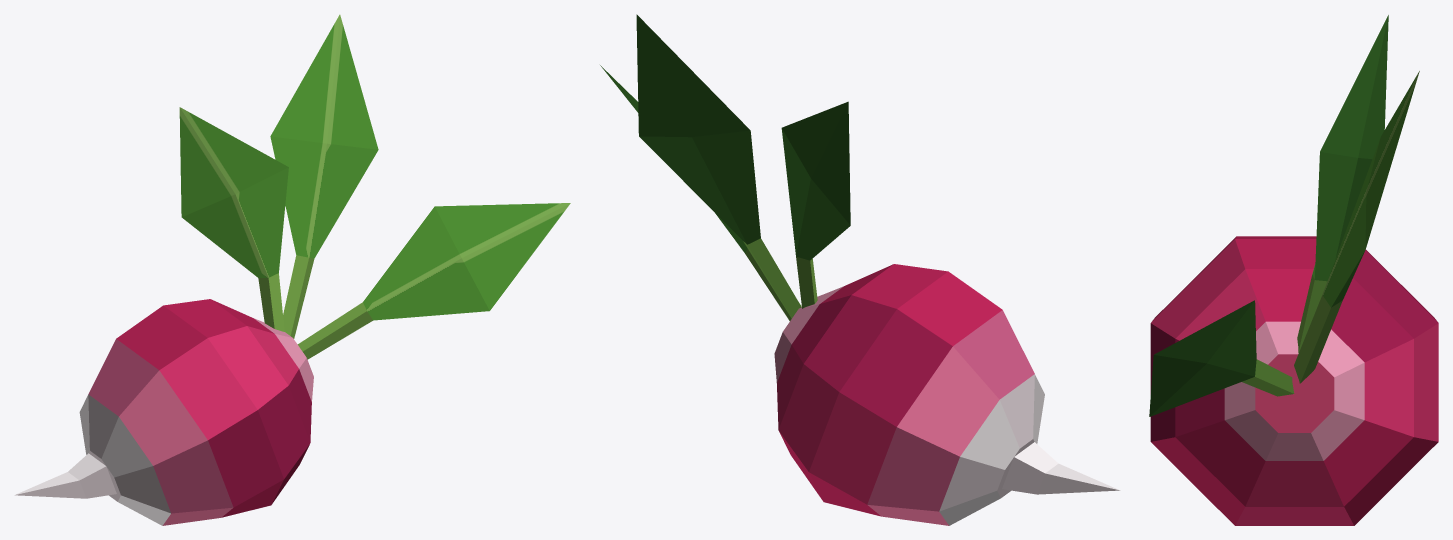
File: FMS_Veg_Radish.fbx
The picture shows the model from 3 angles, left to right: view 1: azimuth 30°, elevation 25°; view 2: azimuth 150°, elevation 25°; view 3: azimuth 270°, elevation 25°; orthographic projection. The views are drawn at different scales.
Visible parts, largest first — view 1: item_produce_radish; view 2: item_produce_radish; view 3: item_produce_radish.
Part boxes in pixels (box(x1,y1,x2,y2)): item_produce_radish: box(14, 14, 570, 525); item_produce_radish: box(600, 14, 1120, 525); item_produce_radish: box(1149, 15, 1438, 525).
Size of the model in its own units: 0.0877 by 0.0678 by 0.0325.
1 material, 1 textured.
